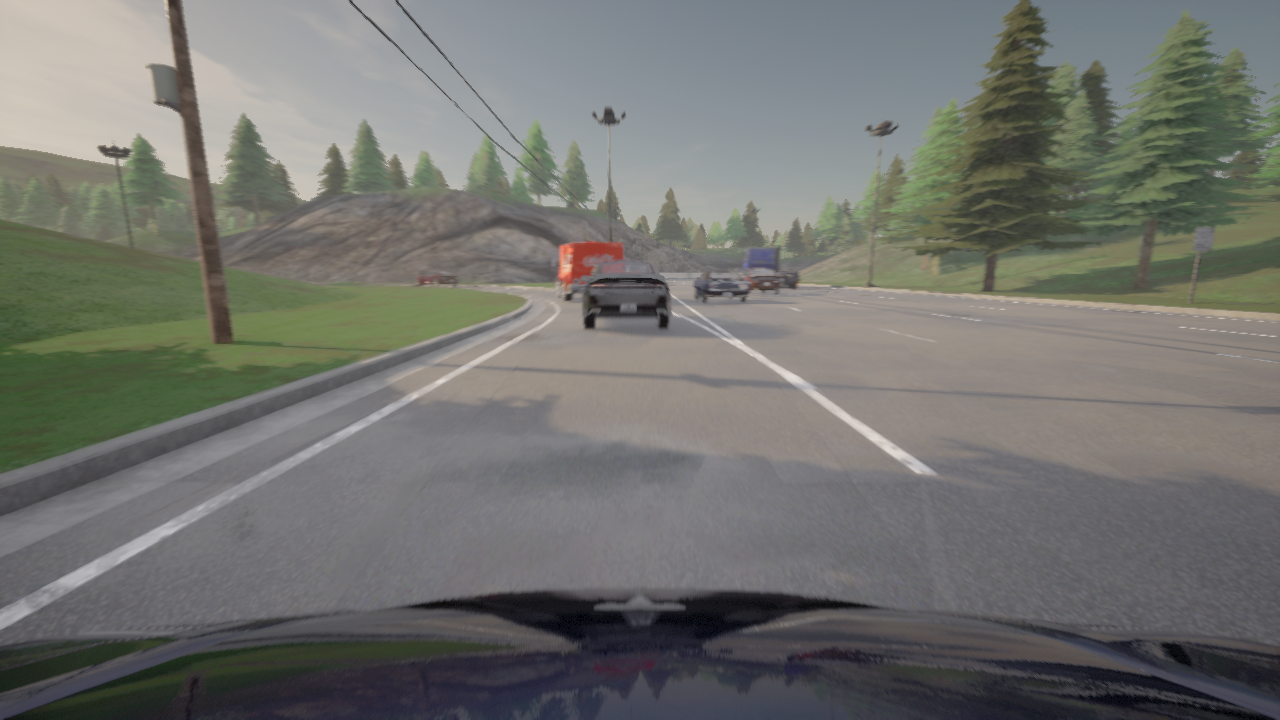cyclist: (0, 588, 1279, 719), (581, 260, 670, 328), (552, 242, 623, 301), (741, 246, 799, 288), (694, 271, 751, 302), (740, 267, 780, 293), (414, 269, 458, 286)
